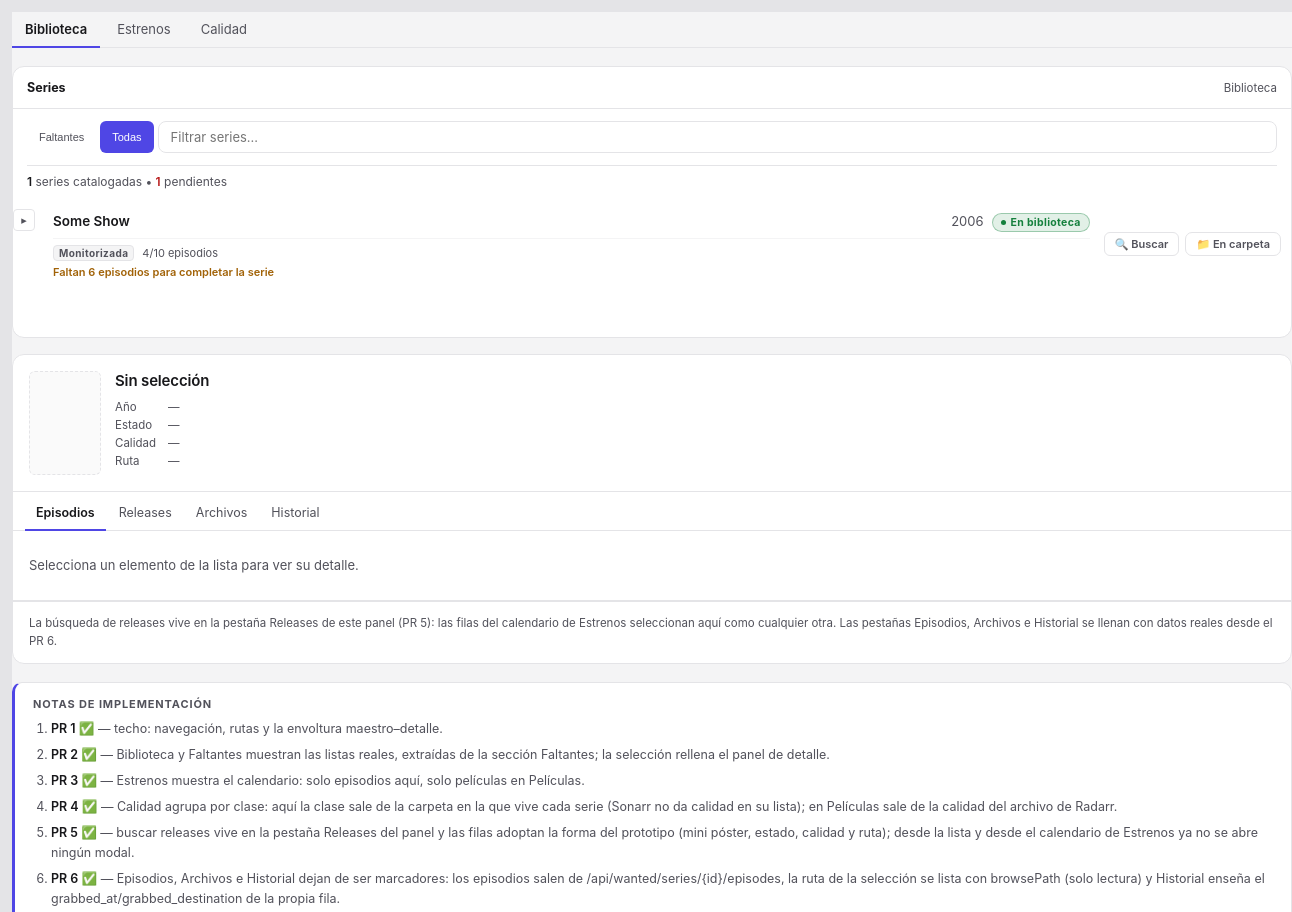
sections · the prototype rows › renders the episode row in Series with its code, title and date
Expected: the text "Some Show" is shown, [53, 212, 130, 228]
Click the button "Faltantes" at (62,137), box [27, 121, 96, 153]
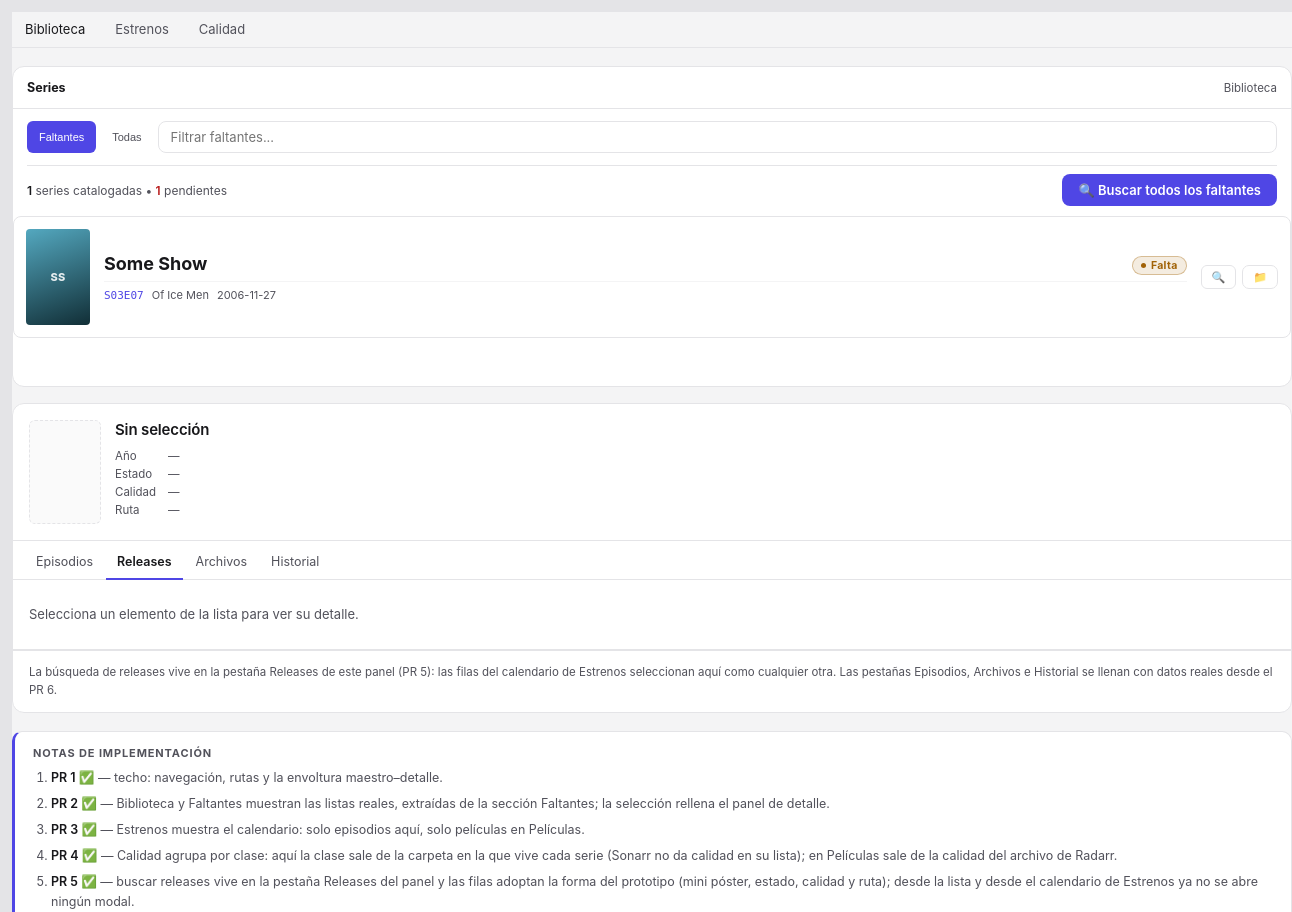
Result: the text "Of Ice Men" is shown at [152, 288, 209, 302]
Result: the text with class "sec-pill" reads "Falta" at [1151, 259, 1178, 272]
Result: the text with class "sec-row-ep" reads "S03E07" at [104, 289, 144, 302]
